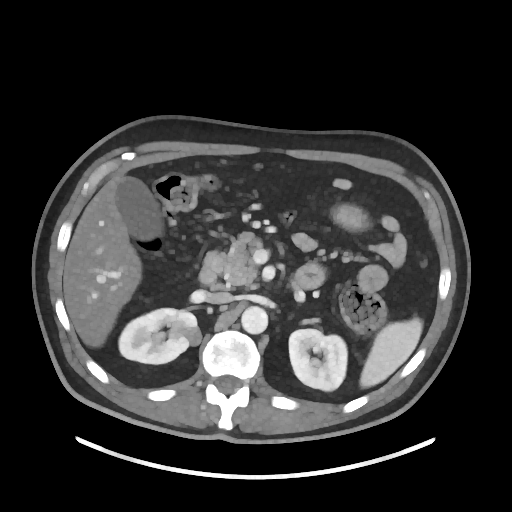Lesion: (177, 320, 203, 349)
